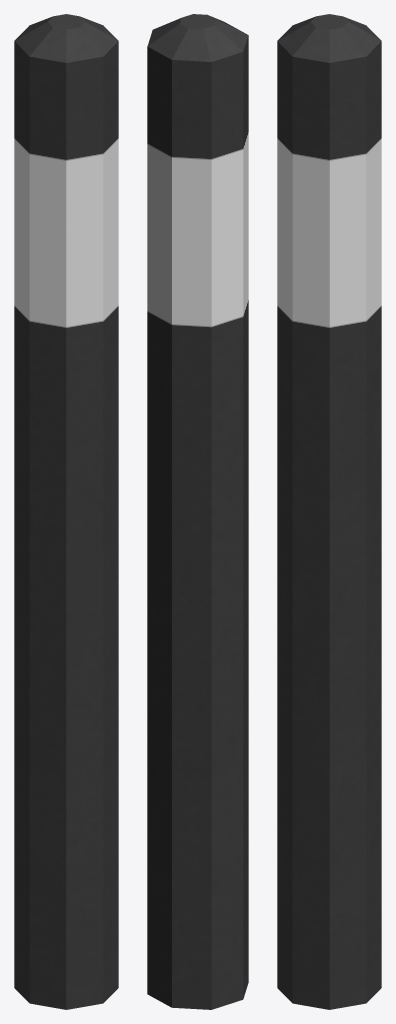
Rendered from waypoint-pole.obj.
3 views of the same model, side by side, from view 1: azimuth 90°, elevation 25°; view 2: azimuth 150°, elevation 25°; view 3: azimuth 270°, elevation 25° (orthographic).
Visible parts, largest first — view 1: waypoint-pole_waypoint-pole_auv; view 2: waypoint-pole_waypoint-pole_auv; view 3: waypoint-pole_waypoint-pole_auv.
Part boxes in pixels (x1=…): waypoint-pole_waypoint-pole_auv: x1=14, y1=14, x2=118, y2=1009; waypoint-pole_waypoint-pole_auv: x1=147, y1=14, x2=248, y2=1009; waypoint-pole_waypoint-pole_auv: x1=277, y1=14, x2=381, y2=1009.
Size of the model in its own units: 0.2 by 2.04 by 0.2.
Materials: 1 (1 with a texture image).
